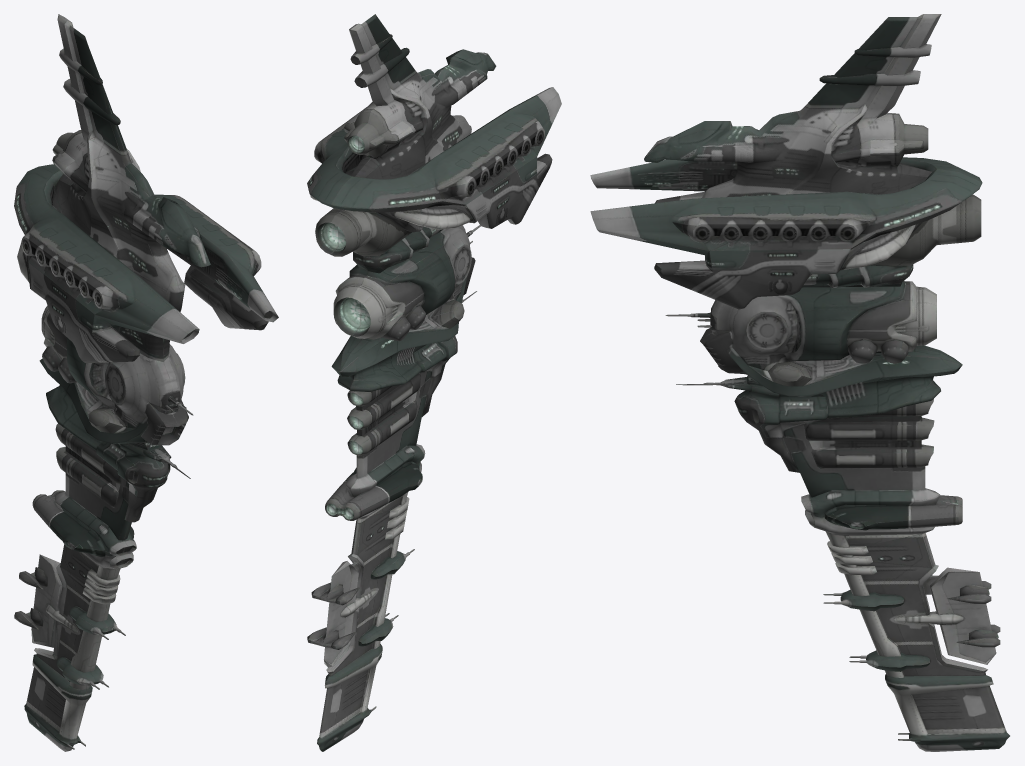
Rendered from 24700_lite.glb.
3 views of the same model, side by side, from view 1: azimuth 30°, elevation 25°; view 2: azimuth 150°, elevation 25°; view 3: azimuth 270°, elevation 25° (orthographic). The views are drawn at different scales.
Visible parts, largest first — view 1: ship; view 2: ship; view 3: ship.
Part boxes in pixels (x1,y1,x2,y2): ship: (14, 14, 278, 751); ship: (307, 14, 561, 751); ship: (590, 14, 1009, 751).
Size of the model in its own units: 1.38 by 6.01 by 3.11.
Materials: 1 (1 with a texture image).
